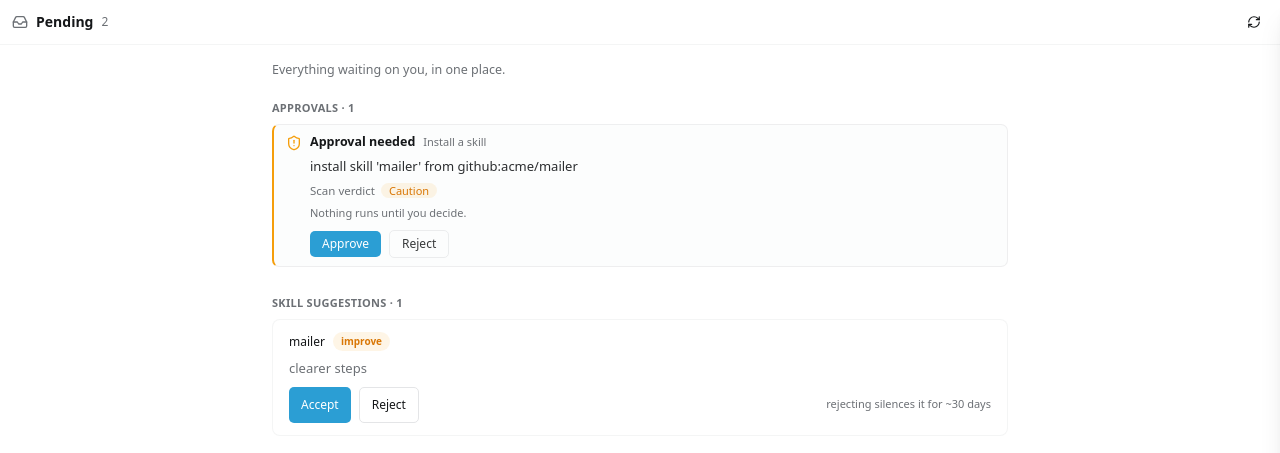
Test: PendingView › decides an approval through the REST route, then refreshes and reports the count
Step 1. Click the button "Approve" → {"x": 346, "y": 244}, box [310,231,381,257]
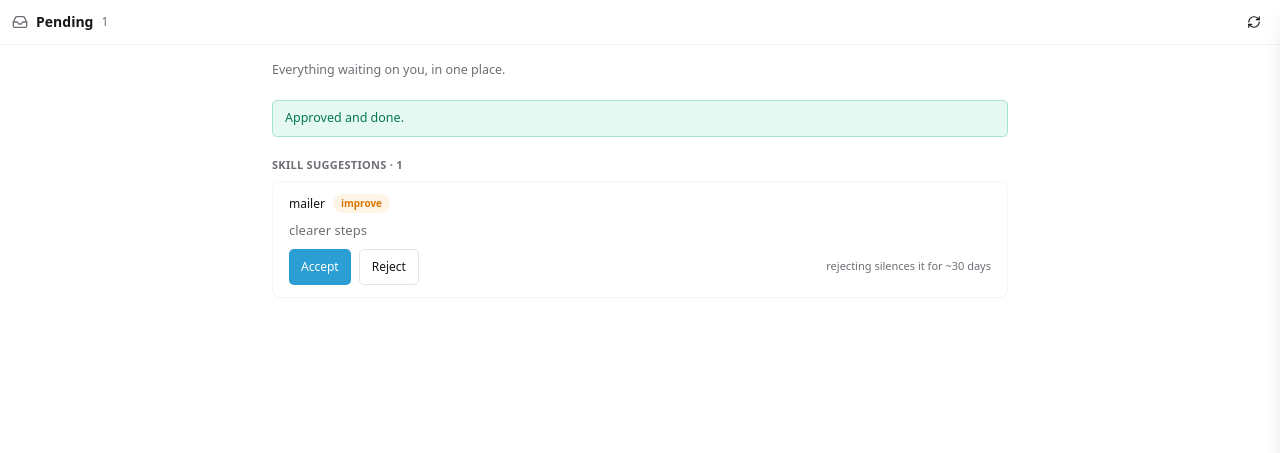
Expected: the text "Approved and done." is shown, [272,100,1008,137]
Expected: the heading "Approvals" is gone
